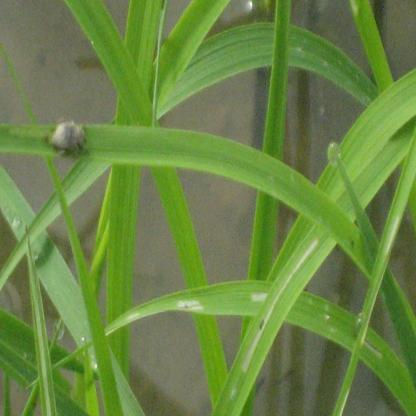rice-bug: (50, 118, 86, 156)
